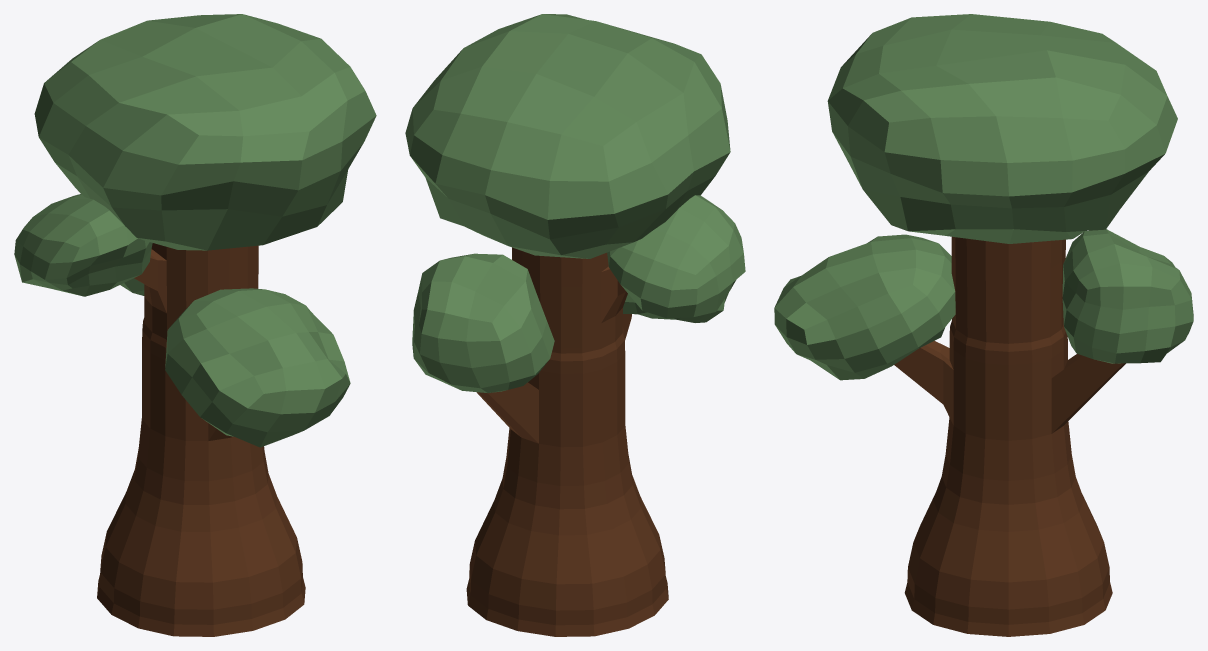
Rendered from TREE 1.fbx.
The picture shows the model from 3 angles, left to right: view 1: azimuth 30°, elevation 25°; view 2: azimuth 150°, elevation 25°; view 3: azimuth 270°, elevation 25°; orthographic projection. The views are drawn at different scales.
Visible parts, largest first — view 1: 立方体; view 2: 立方体; view 3: 立方体.
Boxes of the visible parts, x1,y1,x2,y2 form: 立方体: [14, 14, 376, 636]; 立方体: [405, 14, 745, 636]; 立方体: [774, 14, 1193, 636].
Size of the model in its own units: 531 by 882 by 609.
